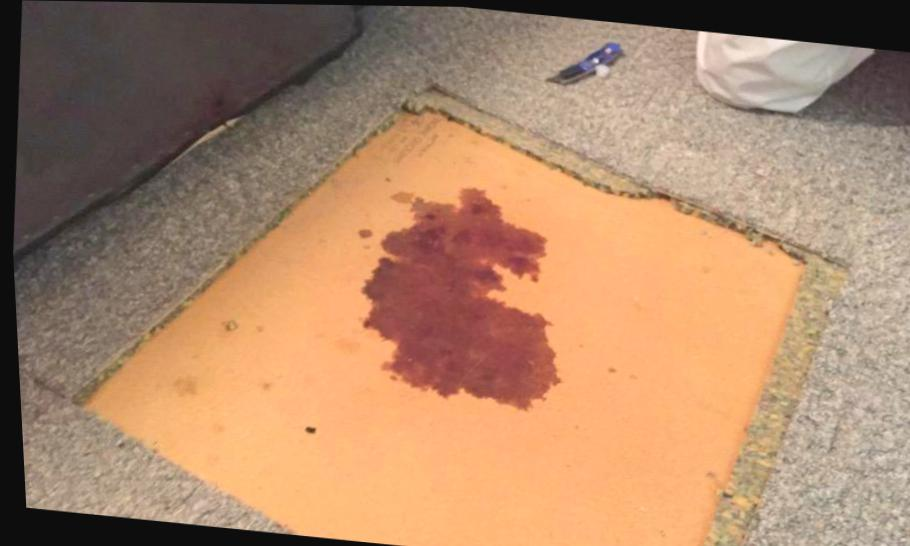Fire: (357, 186, 557, 409)
